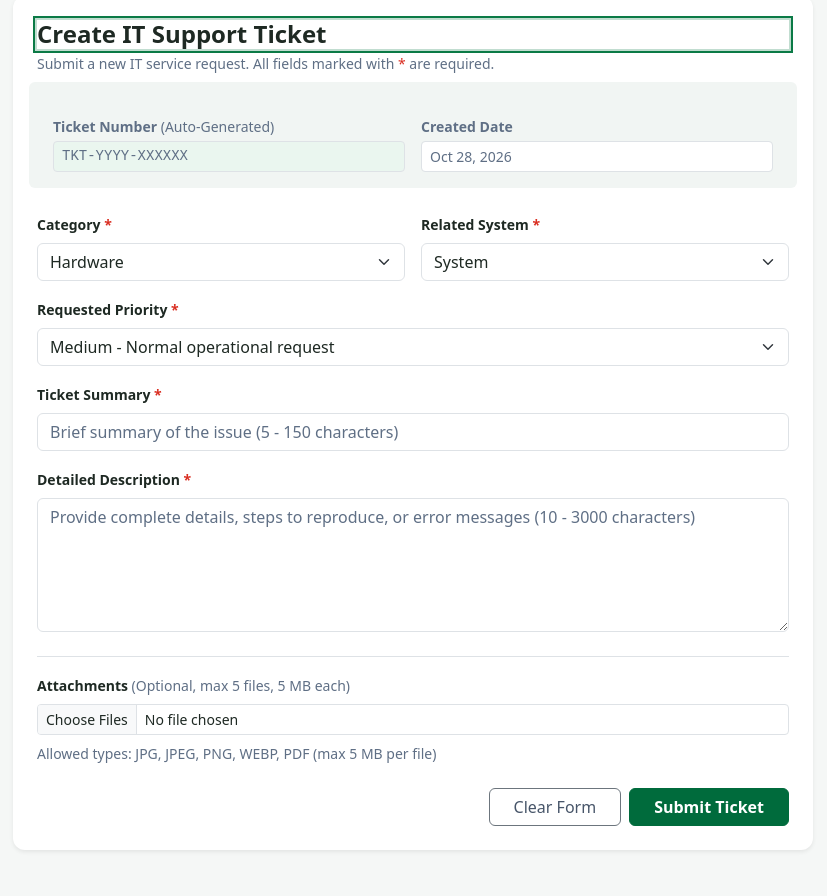
Scenario: Ticket create operation identity › retains the operation key and edited draft on a payload conflict
The width and height of the screenshot is (827, 896).
Check: the dropdown labelled "Category *" is enabled, box [37,243,405,281]
Step 1. Type "Preserve one operation" into the field labelled "Ticket Summary *" → point(413, 432), box [37,413,789,451]
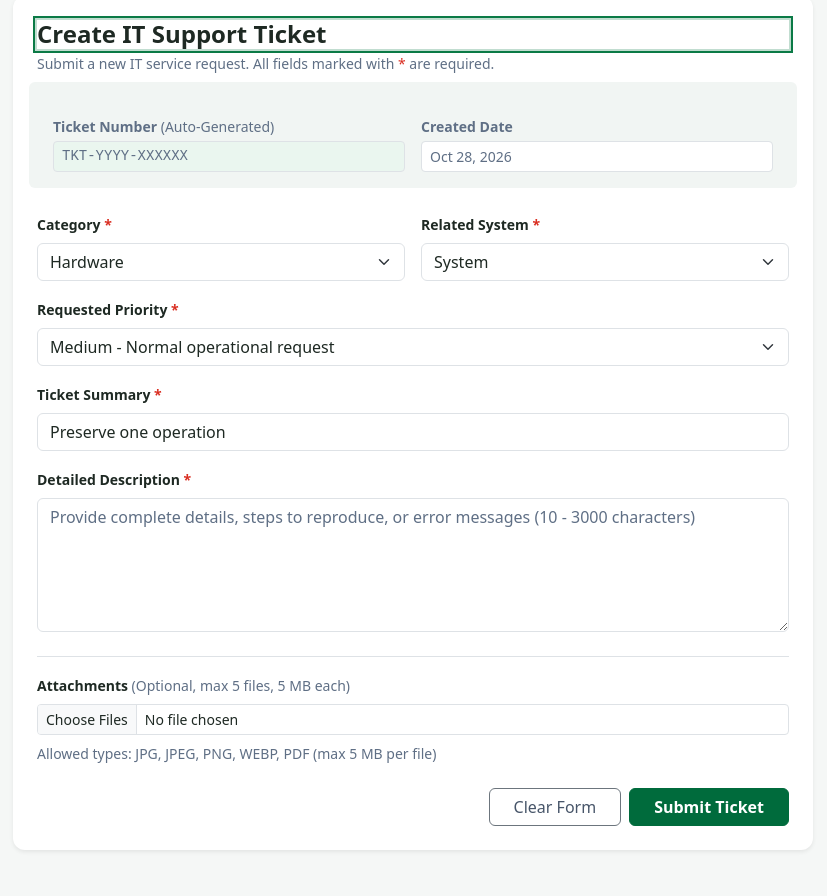
Step 2. Replace the text in the text box labelled "Detailed Description *" with "Preserve the draft after a lost response" → point(413, 565), box [37,498,789,632]
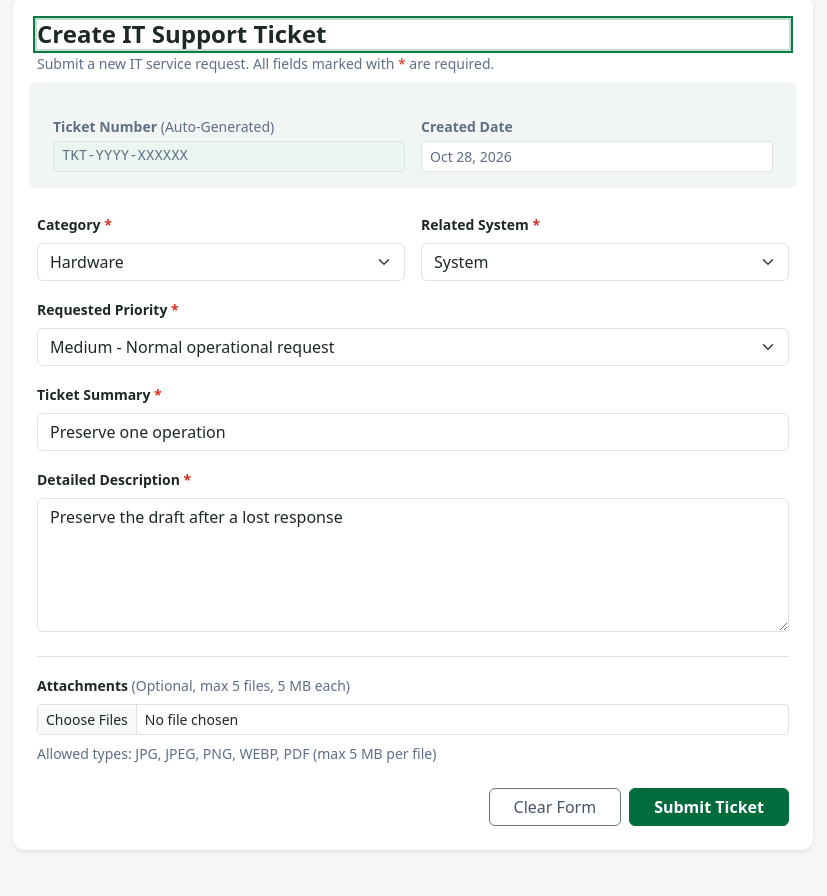
Step 3. Click the button "Submit Ticket" → point(709, 807), box [629,788,789,826]
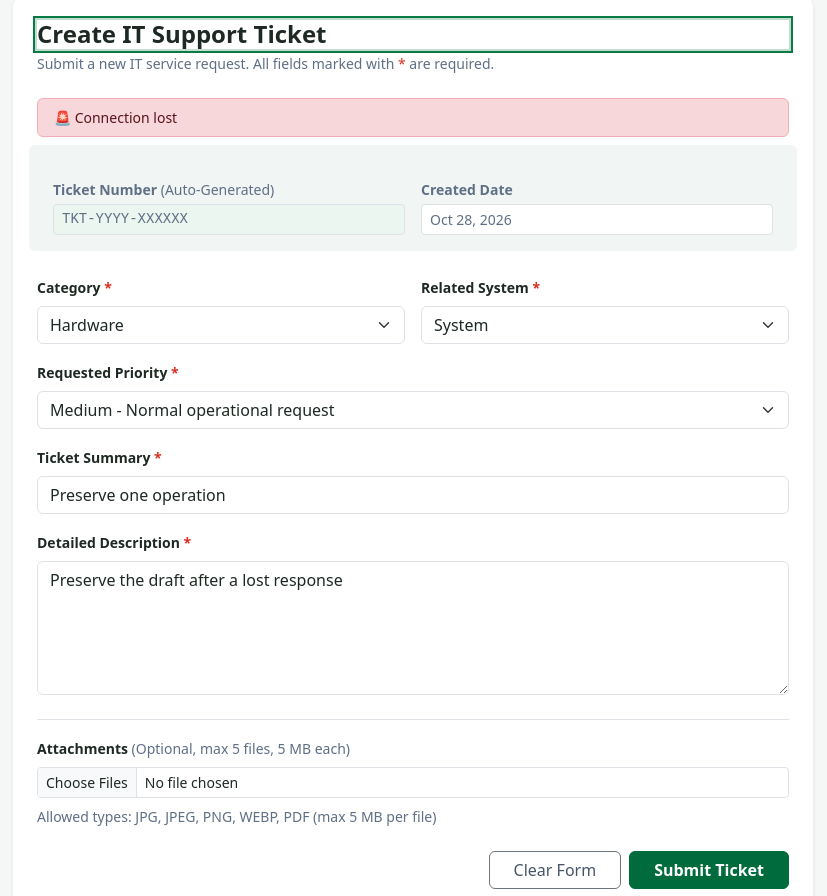
Check: the text "🚨 Connection lost" is shown, box [37,98,789,137]
Step 4. Replace the text in the field labelled "Ticket Summary *" with "Edited after uncertainty" → point(413, 495), box [37,476,789,514]
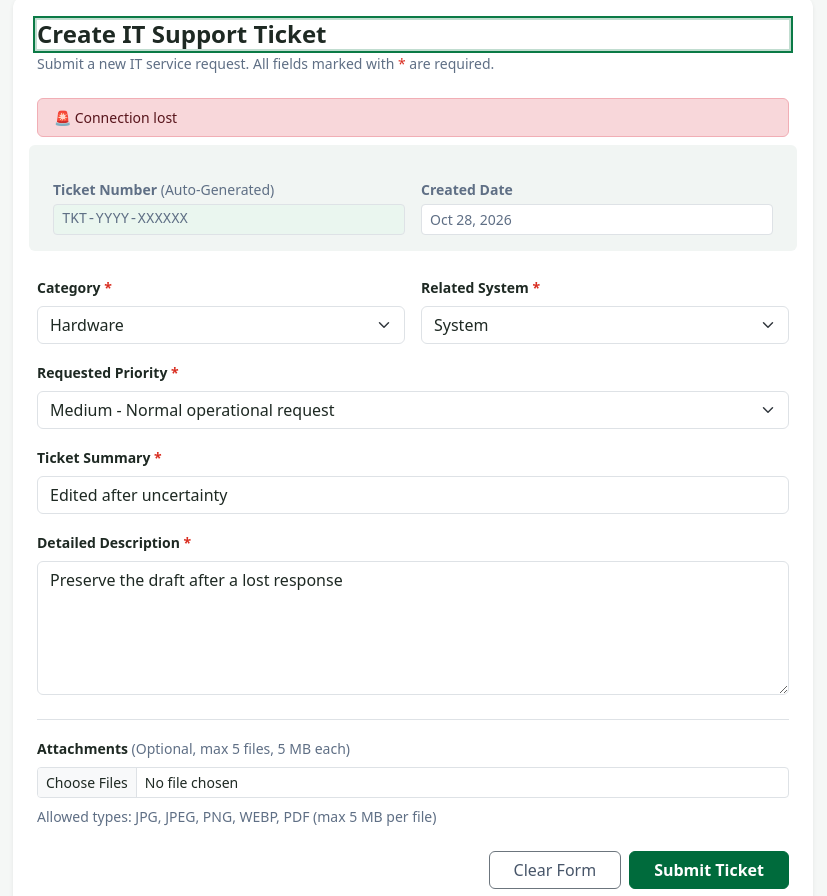
Step 5. Click the button "Submit Ticket" → point(709, 870), box [629,851,789,889]
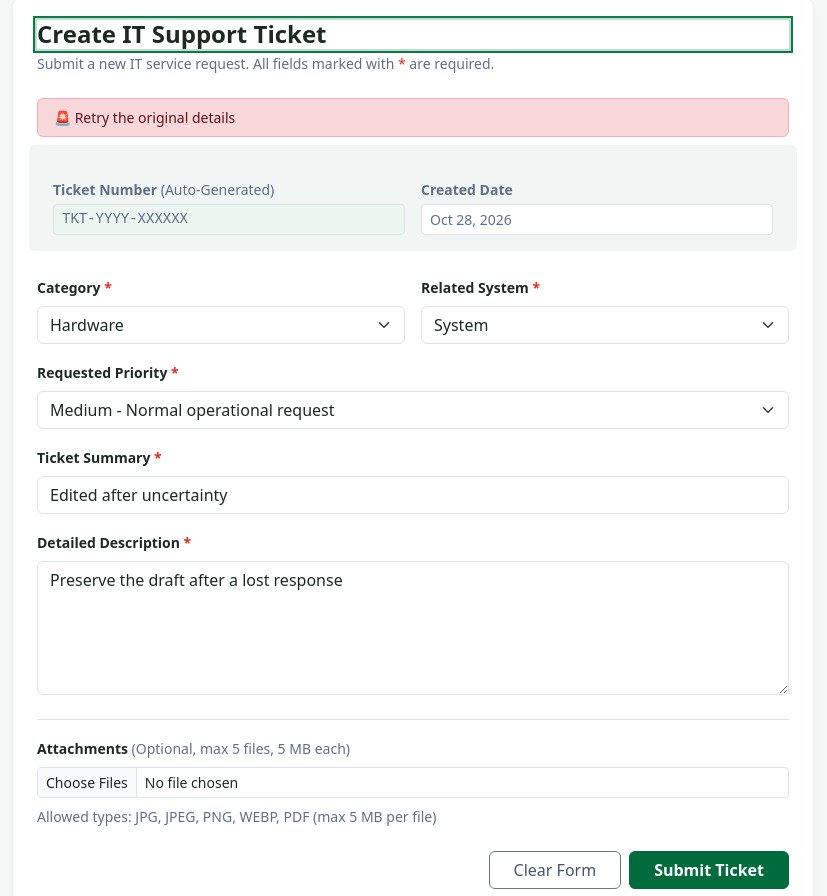
Check: the text "🚨 Retry the original details" is shown, box [37,98,789,137]
